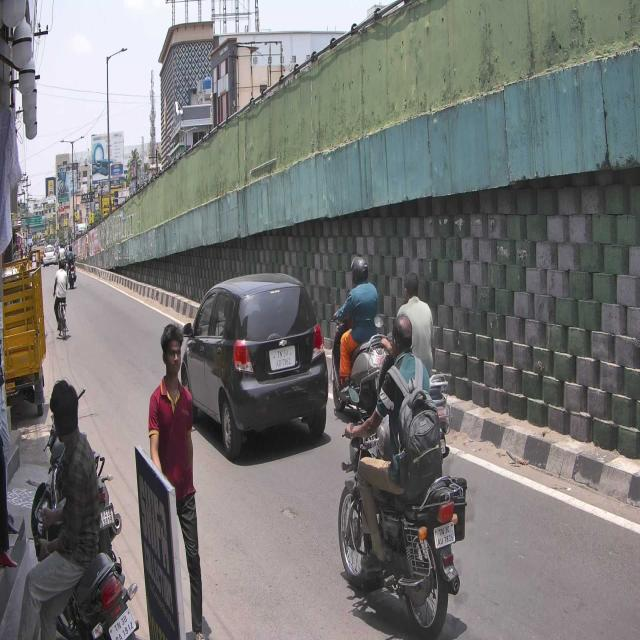single_rider: (339, 309, 470, 640)
